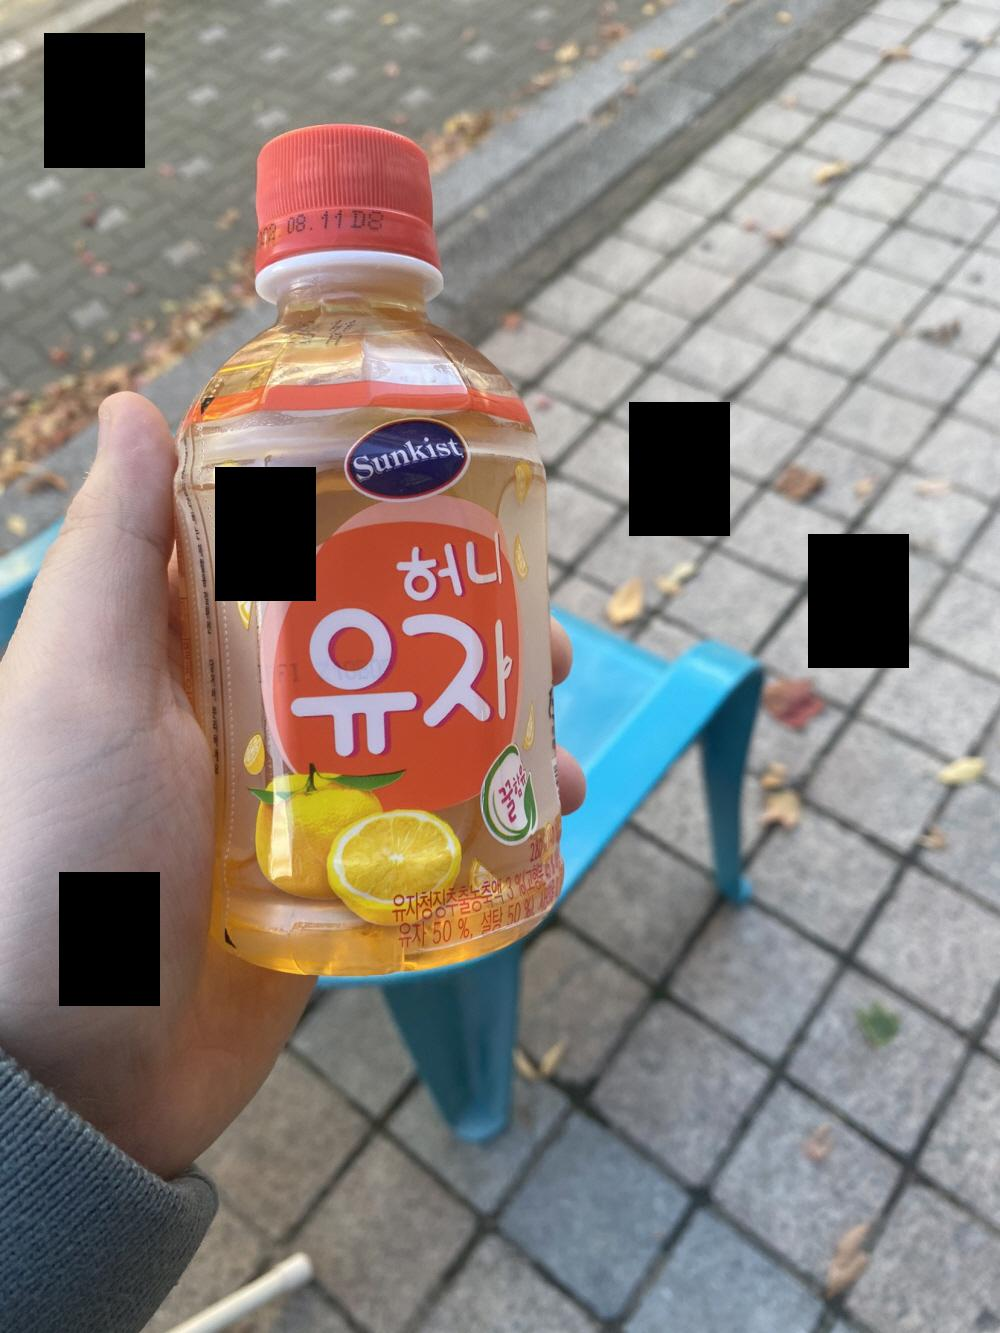honeyyuja: (165, 114, 555, 974)
